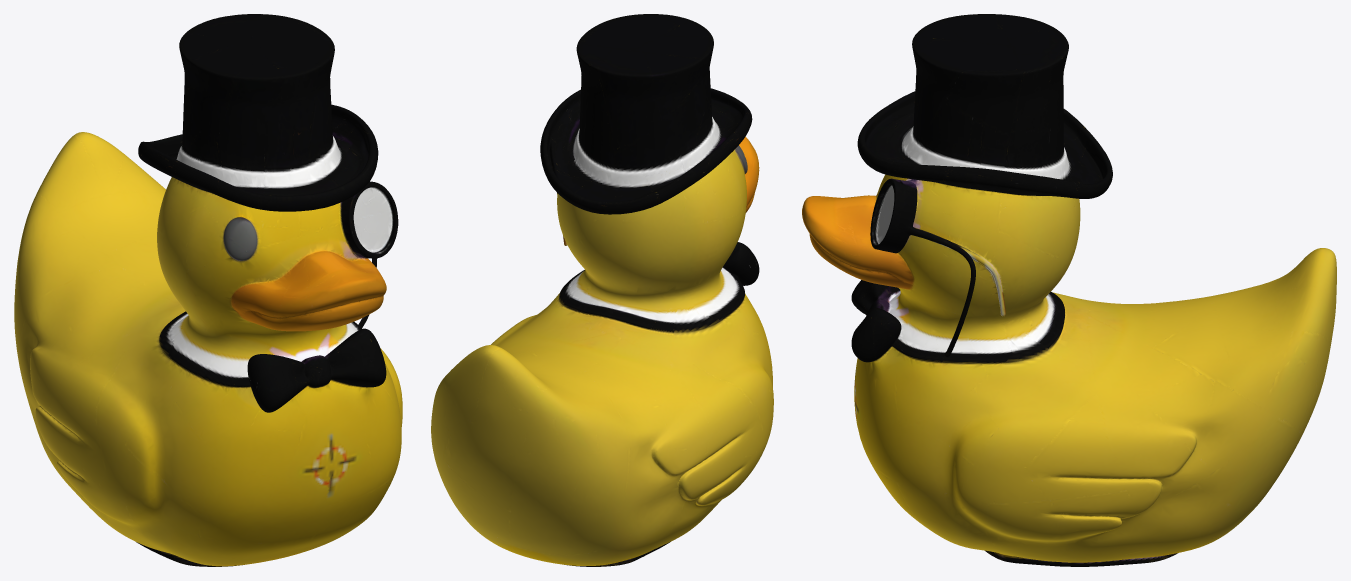
File: utka_boss_fixed.glb
3 views of the same model, side by side, from view 1: azimuth 30°, elevation 25°; view 2: azimuth 150°, elevation 25°; view 3: azimuth 270°, elevation 25° (orthographic). The views are drawn at different scales.
Size of the model in its own units: 1.12 by 1.9 by 1.87.
1 material, 1 textured.
